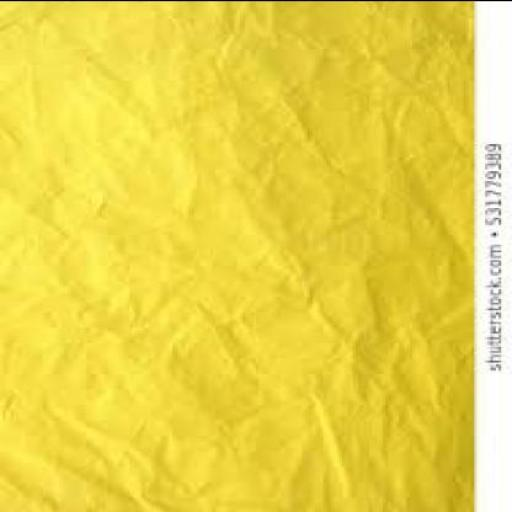paper: (0, 1, 474, 511)
